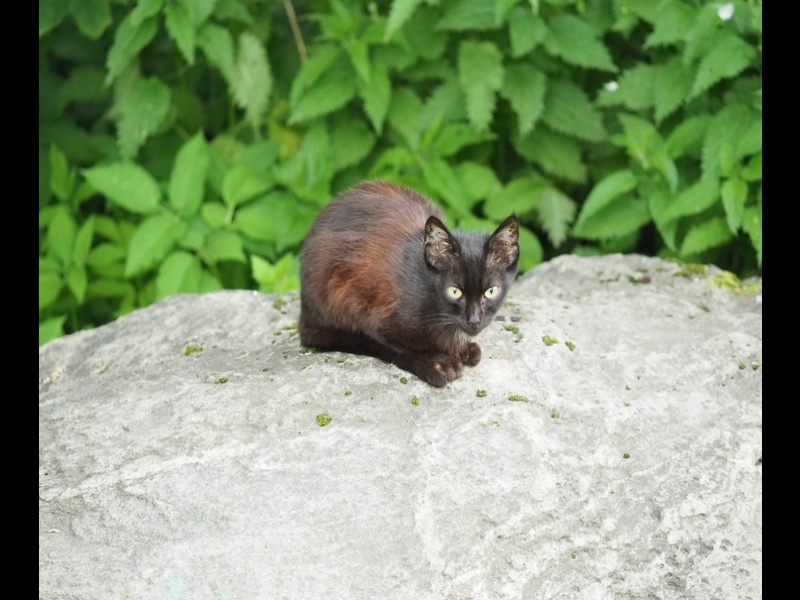cat: (295, 179, 525, 398)
